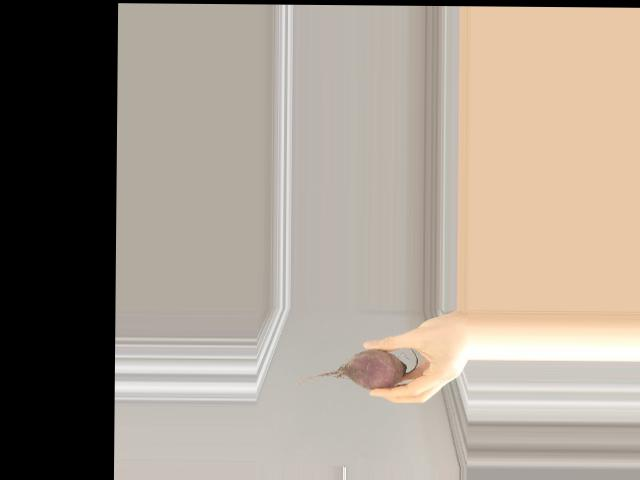beet: (291, 347, 417, 389)
